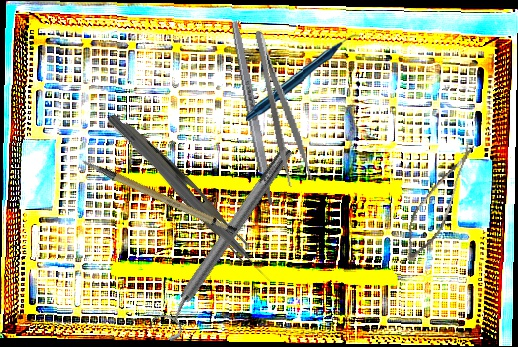Dressing Forceps: (107, 120, 263, 267), (250, 25, 315, 189)
Fixation Ring: (146, 139, 304, 345)
Handpiece: (243, 33, 364, 123)
Micro Scissor: (399, 132, 476, 269)
Pusher: (105, 113, 275, 288)
Scalpel Handle: (80, 136, 239, 254), (228, 18, 277, 208)
